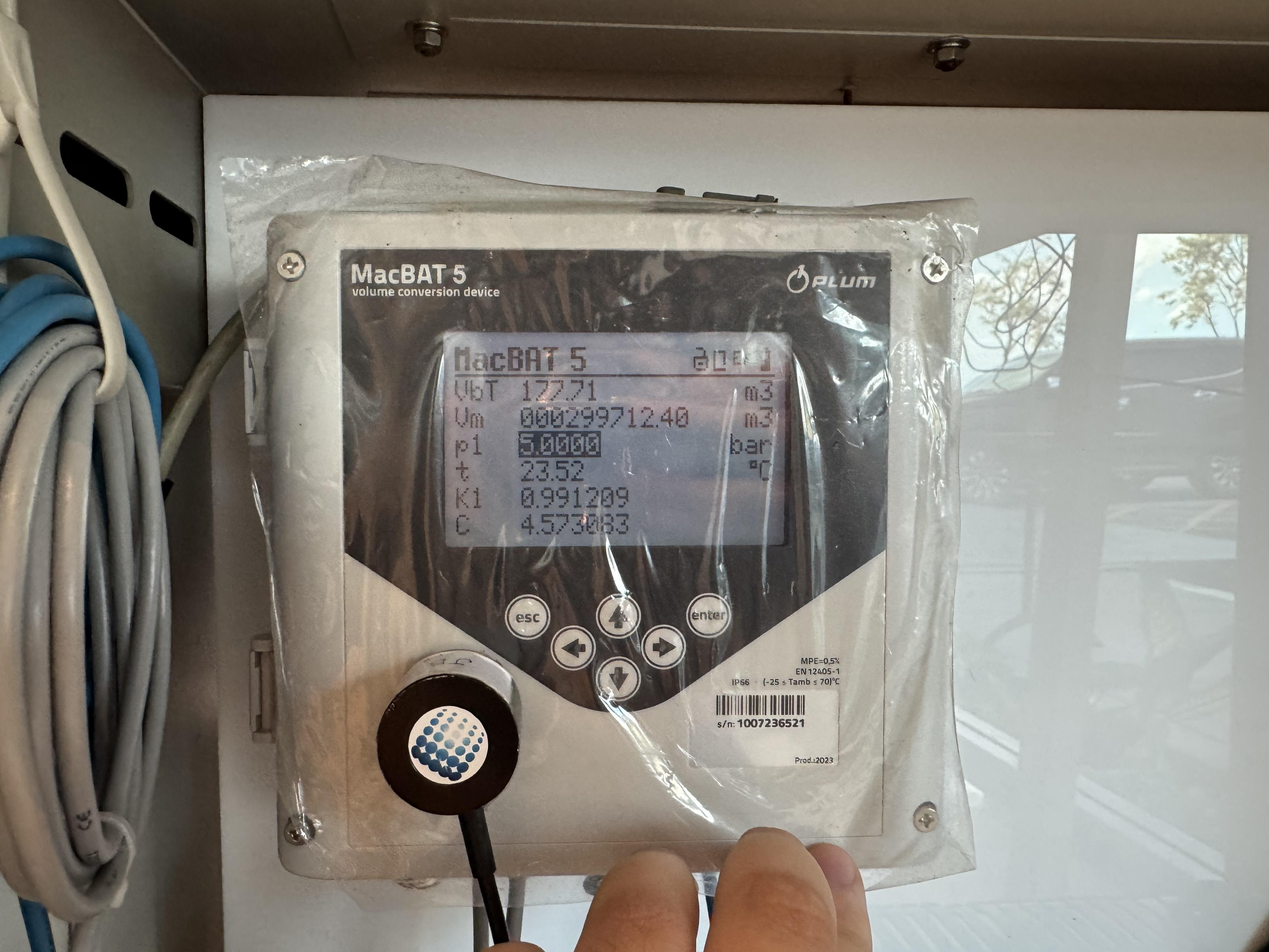digital_screen: (445, 332, 791, 546)
